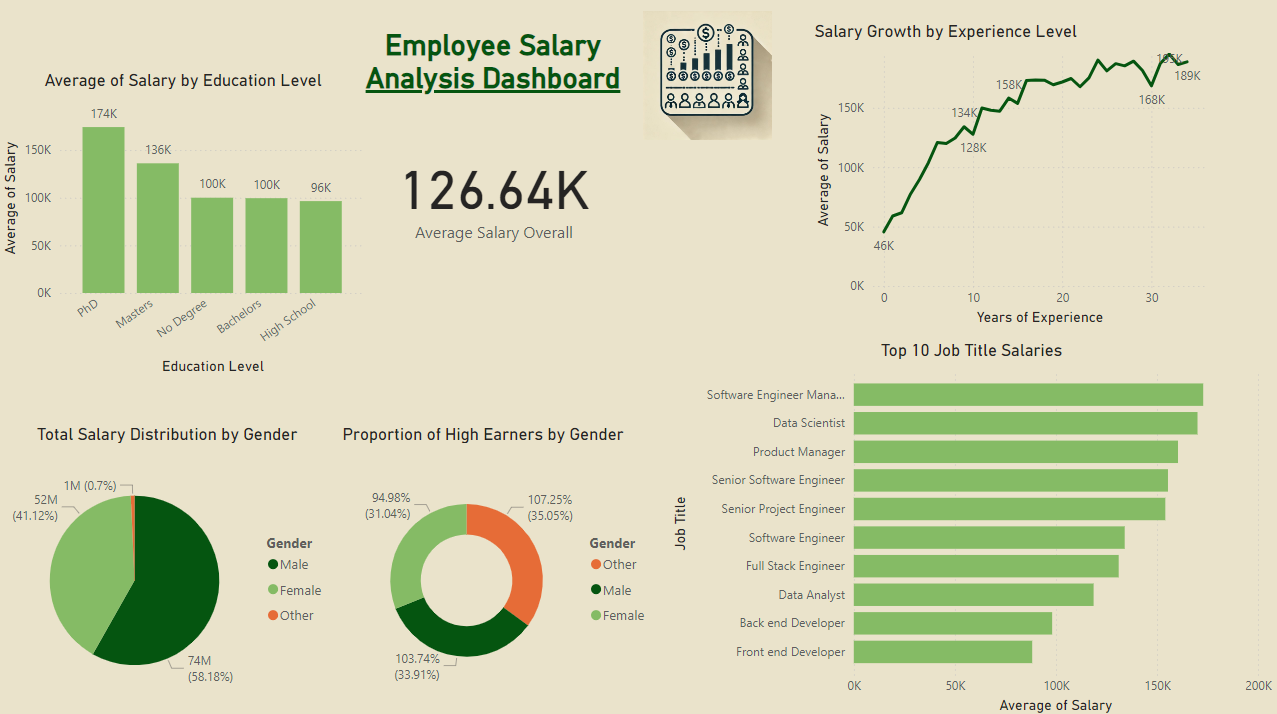

The dashboard page shown, as its layout file describes it:
{"tool":"powerbi","page":{"name":"Page 1","canvas":[1280,720],"ordinal":0},"visuals":[{"type":"columnChart","fields":{"Category":["salary_data_cleaned_sql.Education Level"],"Y":["Avg(salary_data_cleaned_sql.Salary)"]},"box":[0,72,373,309],"z":0},{"type":"clusteredBarChart","title":"Top 10 Job Title Salaries","fields":{"Category":["salary_data_cleaned_sql.Job Title"],"Y":["Avg(salary_data_cleaned_sql.Salary)"]},"box":[670,342,610,378],"z":1000},{"type":"pieChart","title":"Total Salary Distribution by Gender","fields":{"Category":["salary_data_cleaned_sql.Gender"],"Y":["Sum(salary_data_cleaned_sql.Salary)"]},"box":[0,426,341,294],"z":2000},{"type":"lineChart","title":"Salary Growth by Experience Level","fields":{"Category":["salary_data_cleaned_sql.Years of Experience"],"Y":["Avg(salary_data_cleaned_sql.Salary)"]},"box":[813,23,401,309],"z":3000},{"type":"card","fields":{"Values":["Avg(salary_data_cleaned_sql.Salary)"]},"box":[381,118,232,155],"z":4000},{"type":"textbox","box":[356,25,281,93],"z":5000},{"type":"image","box":[640,8,141,139],"z":6000},{"type":"donutChart","title":"Proportion of High Earners by Gender","fields":{"Y":["salary_data_cleaned_sql.High_Earner_Proportion"],"Category":["salary_data_cleaned_sql.Gender"]},"box":[341,426,323,294],"z":7000}]}

Visuals, with their boxes in screenshot pixels (x1, y1, x2, y2), scaled from the page's 1280x720 canvas onto the 1277x714 screenshot:
columnChart - salary_data_cleaned_sql.Education Level x Avg(salary_data_cleaned_sql.Salary): bbox=(0, 71, 372, 378)
"Top 10 Job Title Salaries" clusteredBarChart: bbox=(668, 339, 1276, 713)
"Total Salary Distribution by Gender" pieChart: bbox=(0, 422, 340, 713)
"Salary Growth by Experience Level" lineChart: bbox=(811, 23, 1211, 329)
card - Avg(salary_data_cleaned_sql.Salary): bbox=(380, 117, 612, 271)
textbox: bbox=(355, 25, 636, 117)
image: bbox=(638, 8, 779, 146)
"Proportion of High Earners by Gender" donutChart: bbox=(340, 422, 662, 713)
